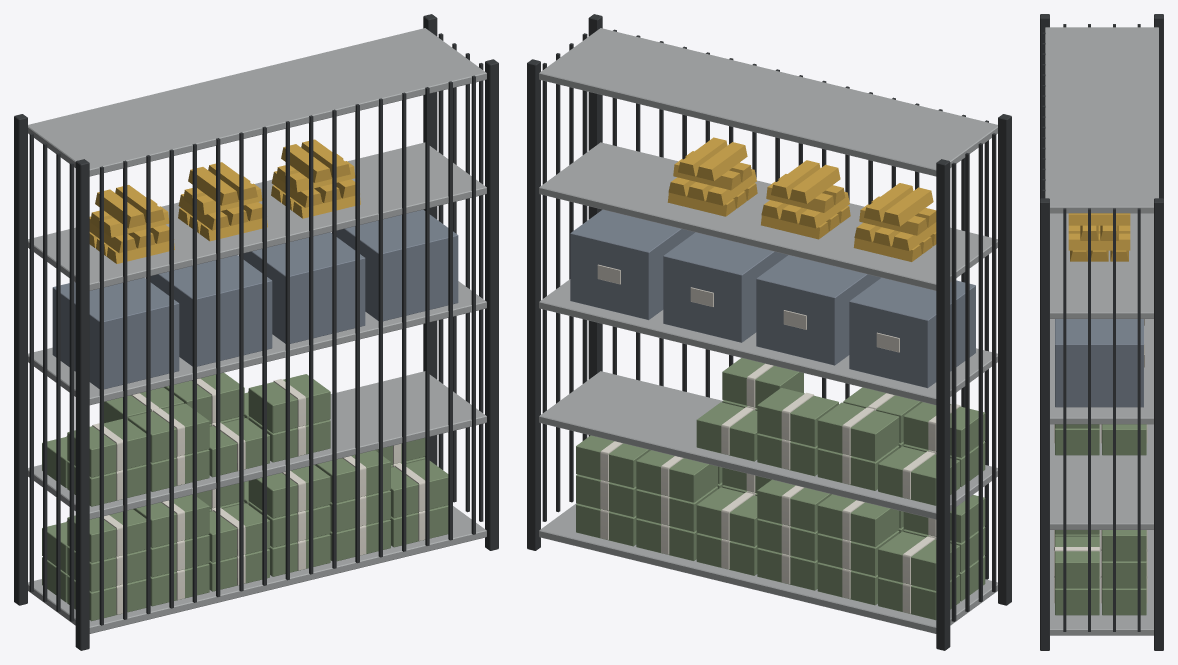
The model's file is prop_of_cage_shelving.glb.
3 views of the same model, side by side, from view 1: azimuth 30°, elevation 25°; view 2: azimuth 150°, elevation 25°; view 3: azimuth 270°, elevation 25° (orthographic). The views are drawn at different scales.
Visible parts, largest first — view 1: Shelving; view 2: Shelving; view 3: Shelving.
Part boxes in pixels (x1=…): Shelving: x1=14, y1=14, x2=498, y2=650; Shelving: x1=527, y1=14, x2=1011, y2=650; Shelving: x1=1040, y1=14, x2=1163, y2=650.
Size of what is drawn, in the model's own units: 1.8 by 2 by 0.5.
